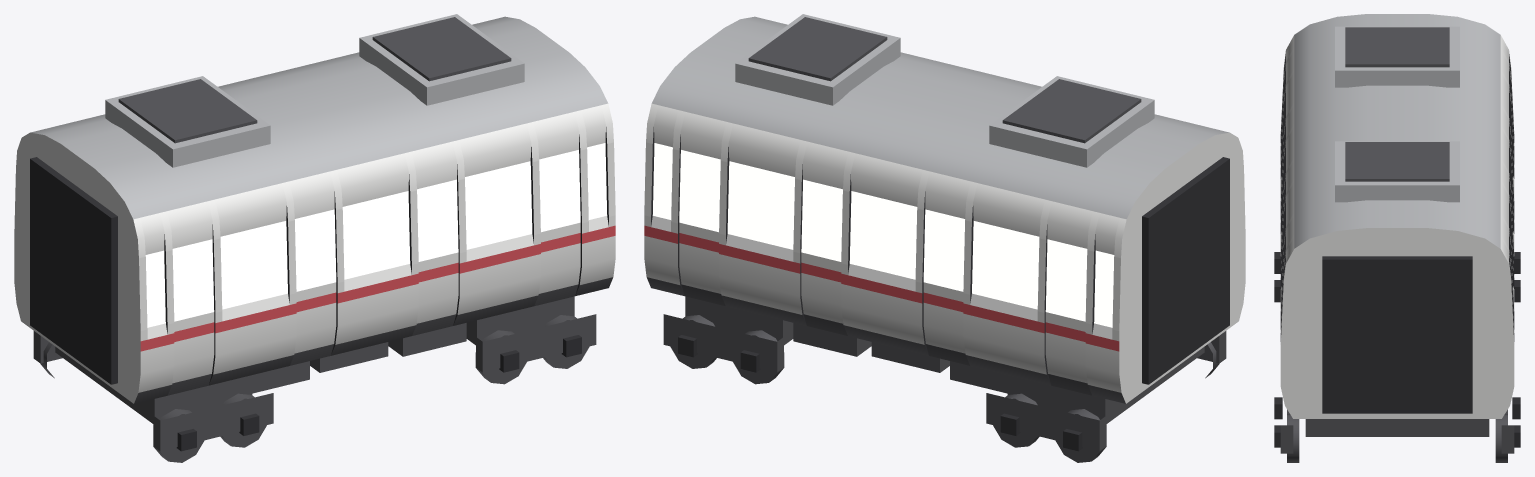
File: tmb6000_car.glb
3 renders of one model, left to right at view 1: azimuth 30°, elevation 25°; view 2: azimuth 150°, elevation 25°; view 3: azimuth 270°, elevation 25°, orthographic. The views are drawn at different scales.
Parts seen in each view (by area): view 1: TMB6000_car; view 2: TMB6000_car; view 3: TMB6000_car.
Boxes of the visible parts, x1,y1,x2,y2 form: TMB6000_car: [14, 14, 615, 462]; TMB6000_car: [644, 14, 1245, 462]; TMB6000_car: [1274, 14, 1520, 462].
Bounding box in the file's own units: 0.5 × 0.287 × 0.236.
